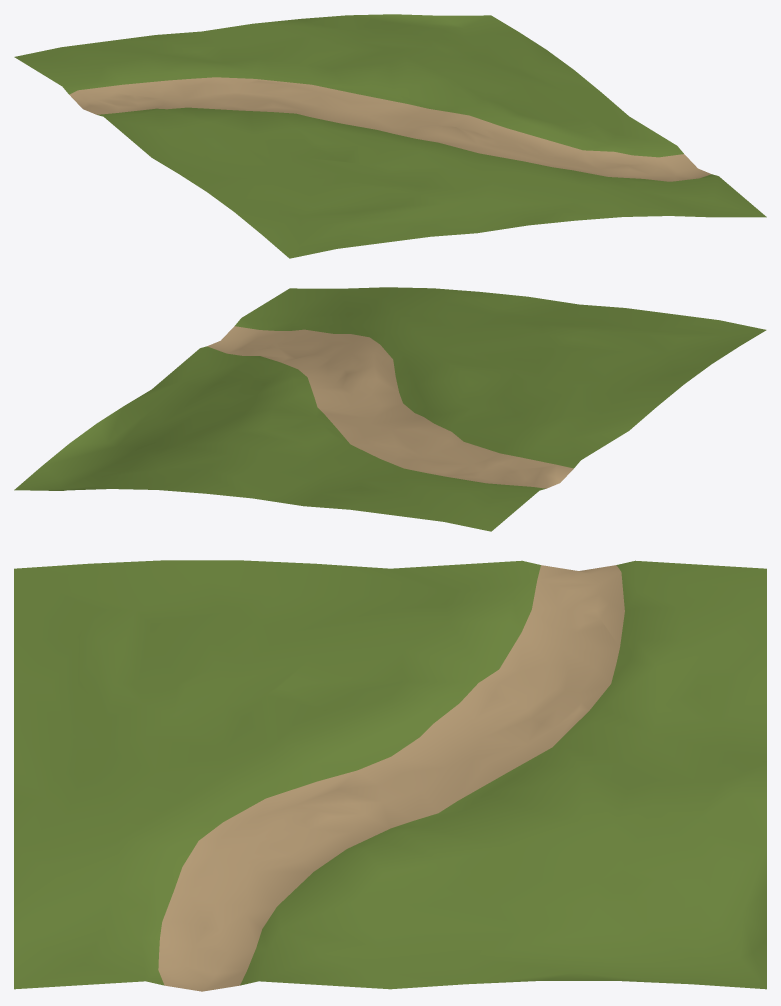
The model's file is rpgpp_ag_terrain_path_07_20x20m_slope_1-2m.fbx.
3 renders of one model, top to bottom at view 1: azimuth 30°, elevation 25°; view 2: azimuth 150°, elevation 25°; view 3: azimuth 270°, elevation 25°, orthographic. The views are drawn at different scales.
Parts seen in each view (by area): view 1: rpgpp_ag_terrain_path_07_20x20m_slope_1-2m; view 2: rpgpp_ag_terrain_path_07_20x20m_slope_1-2m; view 3: rpgpp_ag_terrain_path_07_20x20m_slope_1-2m.
Boxes of the visible parts, x1=… form: rpgpp_ag_terrain_path_07_20x20m_slope_1-2m: x1=14, y1=14, x2=766, y2=258; rpgpp_ag_terrain_path_07_20x20m_slope_1-2m: x1=14, y1=287, x2=766, y2=531; rpgpp_ag_terrain_path_07_20x20m_slope_1-2m: x1=14, y1=560, x2=766, y2=991.
Size of the model in its own units: 20 by 3.36 by 20.
